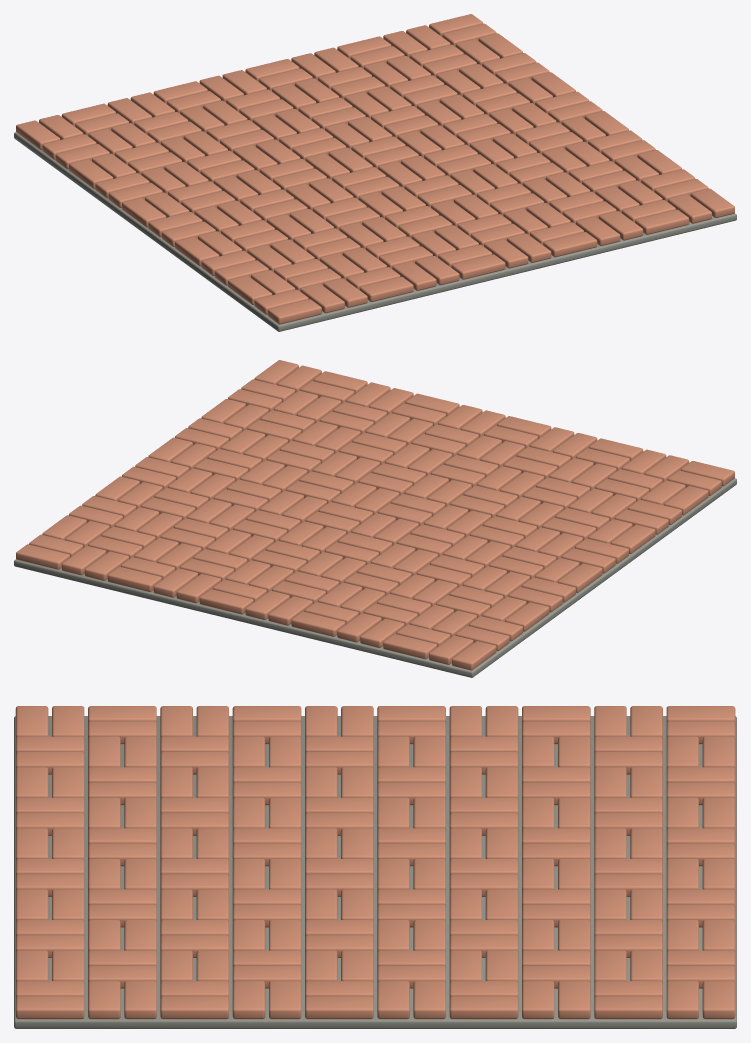
Rendered from brick-patio.glb.
The picture shows the model from 3 angles, top to bottom: view 1: azimuth 30°, elevation 25°; view 2: azimuth 150°, elevation 25°; view 3: azimuth 270°, elevation 25°; orthographic projection. The views are drawn at different scales.
Visible parts, largest first — view 1: brick-patio; view 2: brick-patio; view 3: brick-patio.
Part boxes in pixels (left/top/right/bottom): brick-patio: left=14, top=14, right=736, bottom=331; brick-patio: left=14, top=360, right=736, bottom=677; brick-patio: left=14, top=706, right=736, bottom=1028.
Size of the model in its own units: 2 by 0.06 by 2.
